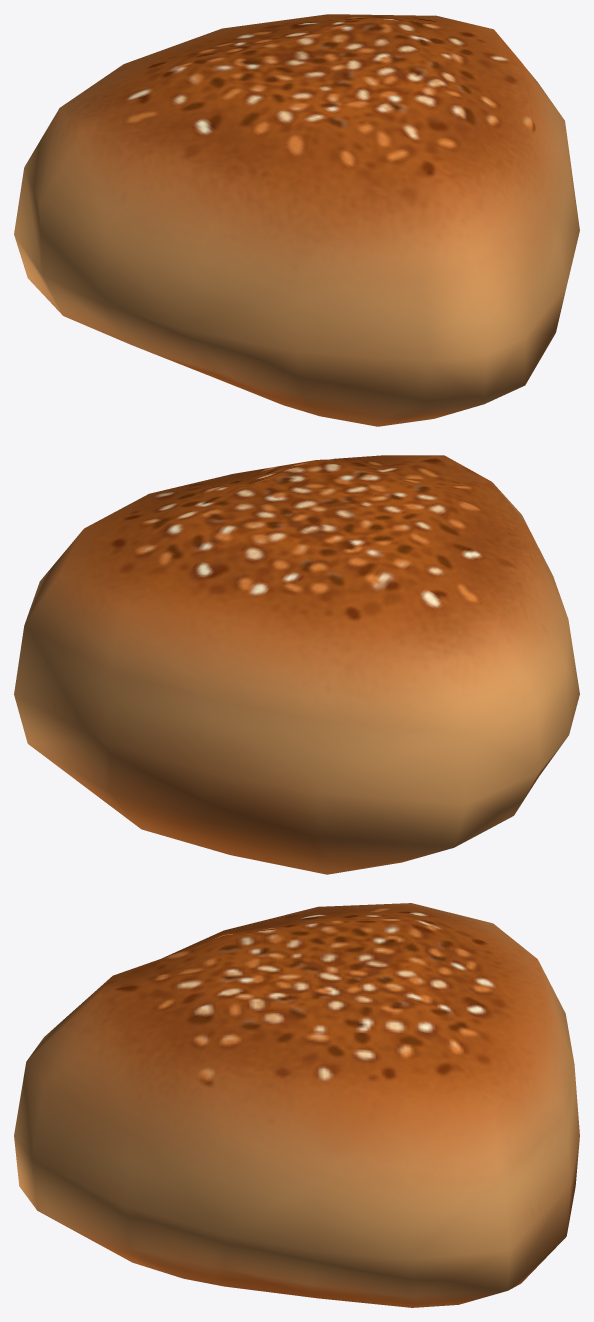
The model's file is Triangle.fbx.
3 renders of one model, top to bottom at view 1: azimuth 30°, elevation 25°; view 2: azimuth 150°, elevation 25°; view 3: azimuth 270°, elevation 25°, orthographic.
Parts seen in each view (by area): view 1: Triangle; view 2: Triangle; view 3: Triangle.
Part boxes in pixels (x1,y1,x2,y2): Triangle: [14, 14, 579, 426]; Triangle: [14, 455, 579, 874]; Triangle: [14, 903, 579, 1307].
Size of the model in its own units: 29.87 by 16.5 by 29.29.
